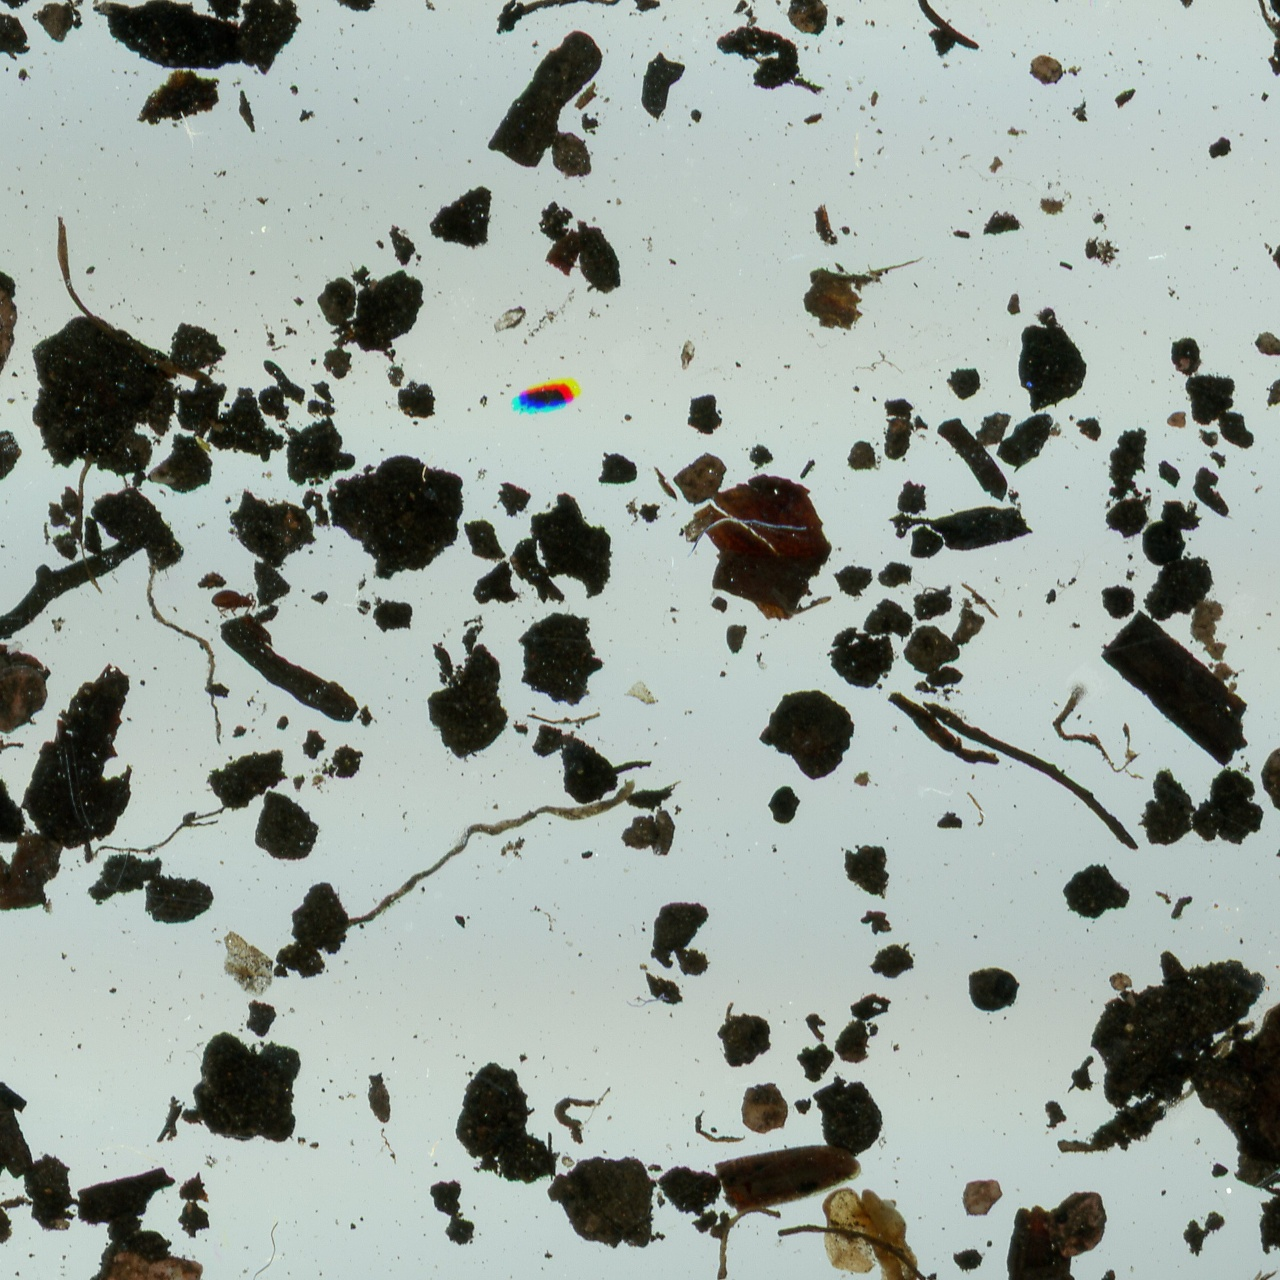arthropod: (209, 587, 259, 621)
